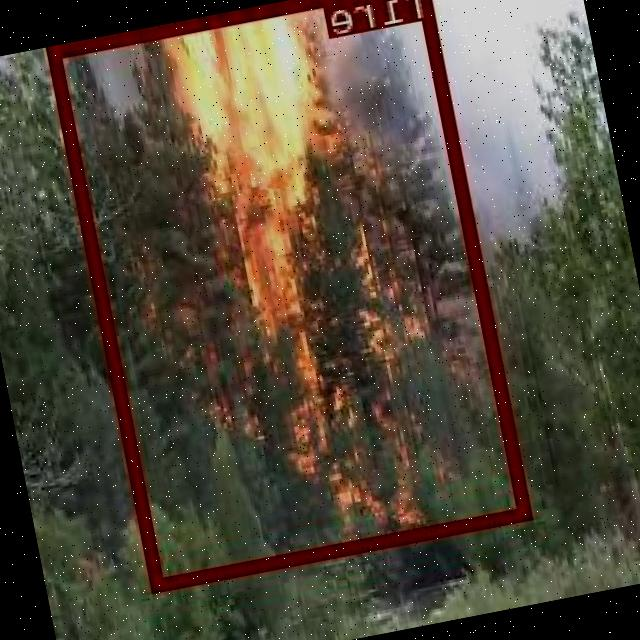fire: (52, 0, 536, 587)
